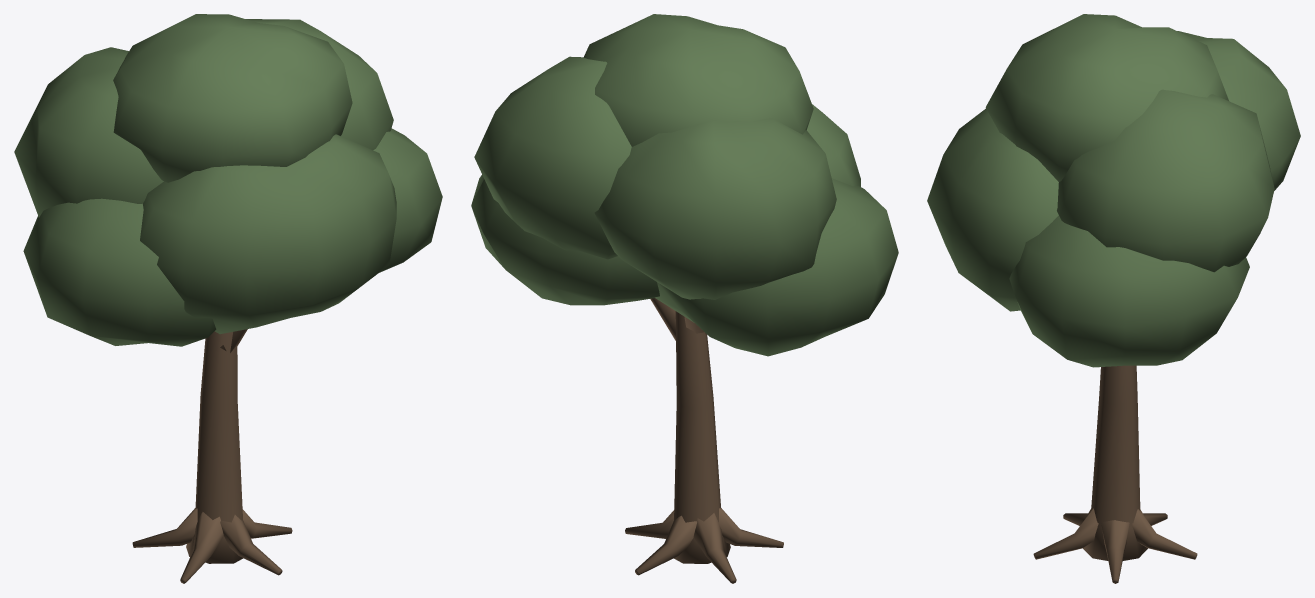
The model's file is tree-01-broadleaf.glb.
3 views of the same model, side by side, from view 1: azimuth 30°, elevation 25°; view 2: azimuth 150°, elevation 25°; view 3: azimuth 270°, elevation 25° (orthographic).
Visible parts, largest first — view 1: tree-01-broadleaf; view 2: tree-01-broadleaf; view 3: tree-01-broadleaf.
Boxes of the visible parts, <box> form: tree-01-broadleaf: <box>14,14,442,583</box>; tree-01-broadleaf: <box>471,14,898,583</box>; tree-01-broadleaf: <box>927,14,1300,583</box>.
Bounding box in the file's own units: 4.77 × 6 × 3.88.
